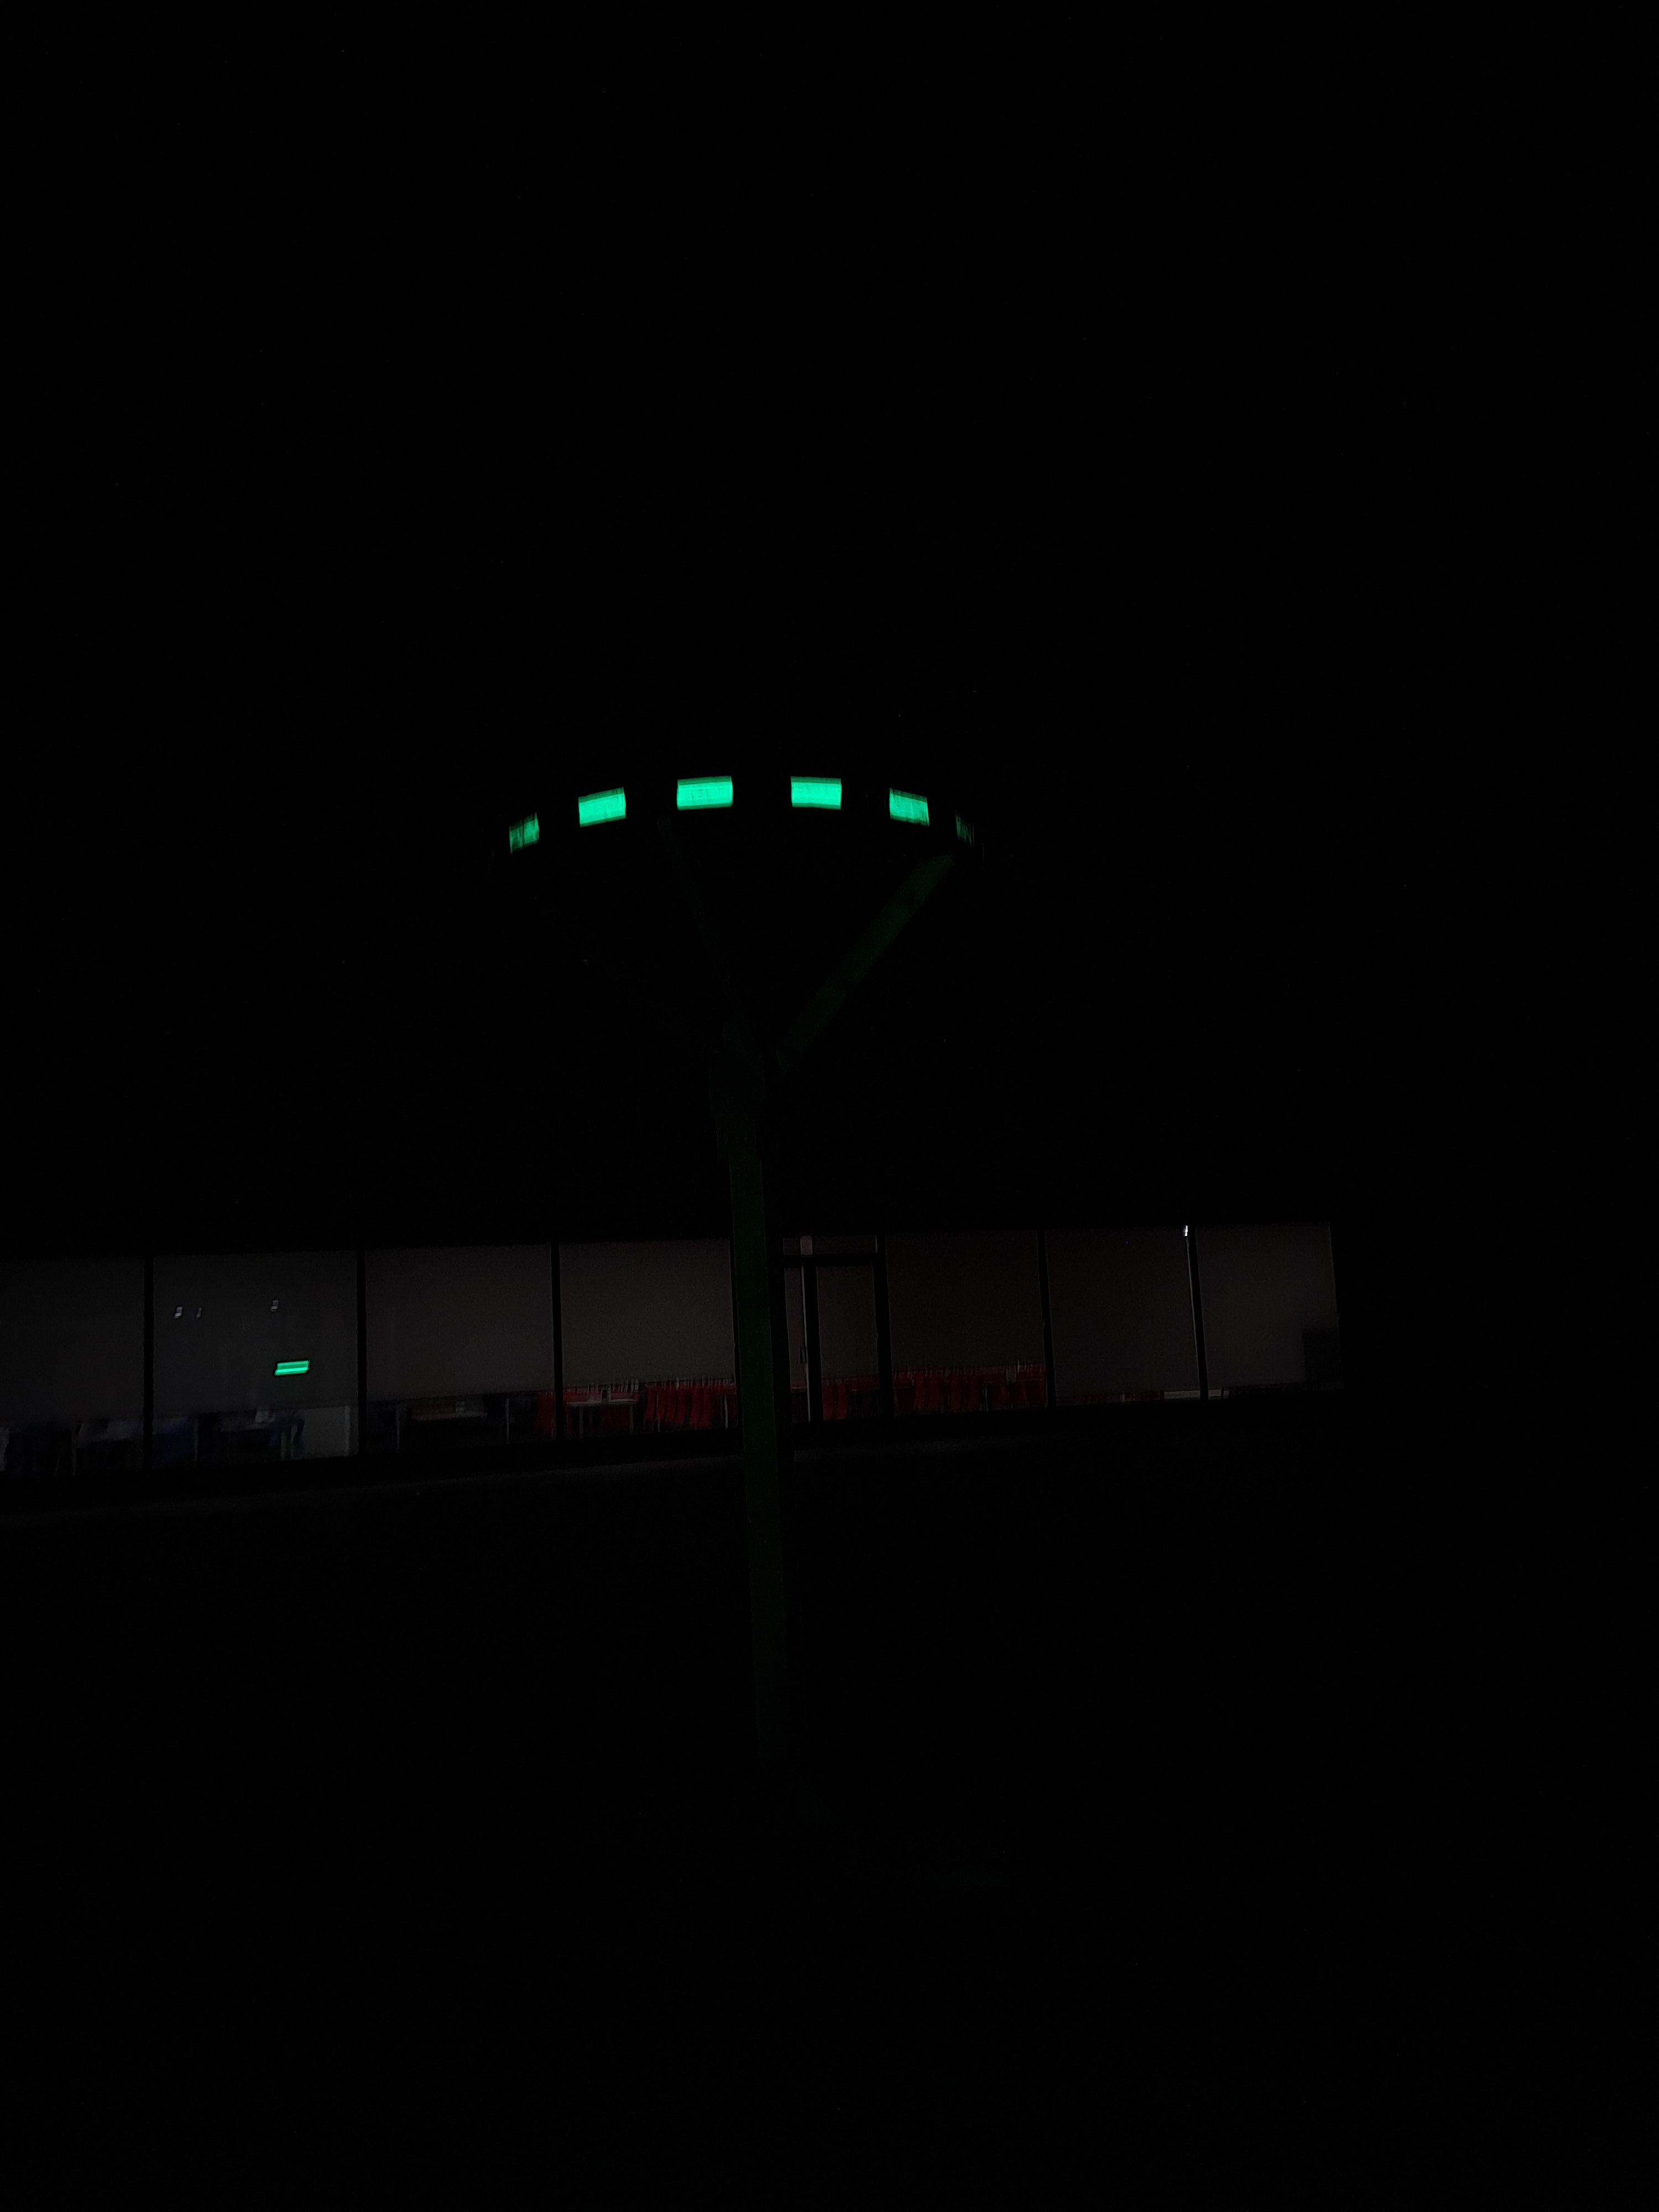hoop: (495, 772, 938, 853)
